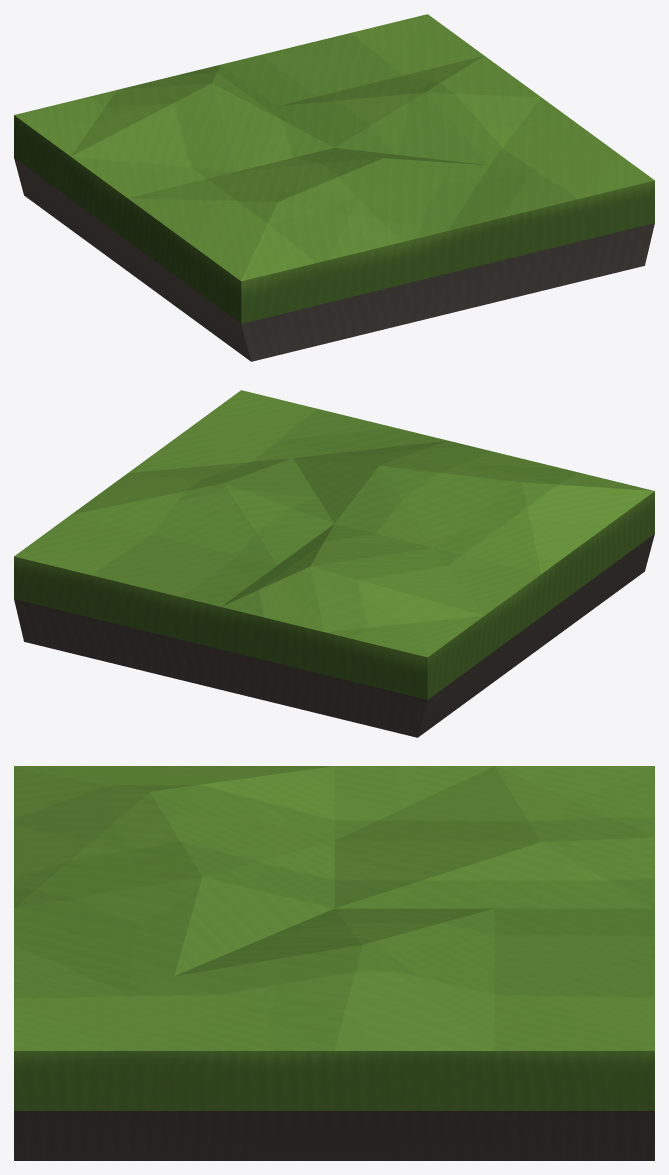
Rendered from grassBlock.dae.
3 renders of one model, top to bottom at view 1: azimuth 30°, elevation 25°; view 2: azimuth 150°, elevation 25°; view 3: azimuth 270°, elevation 25°, orthographic. The views are drawn at different scales.
Visible parts, largest first — view 1: Cube; view 2: Cube; view 3: Cube.
Part boxes in pixels (x1,y1,x2,y2): Cube: (14,14,654,361); Cube: (14,390,654,737); Cube: (14,766,654,1160).
Bounding box in the file's own units: 2.1 × 2 × 0.5158.
Materials: 1 (1 with a texture image).
